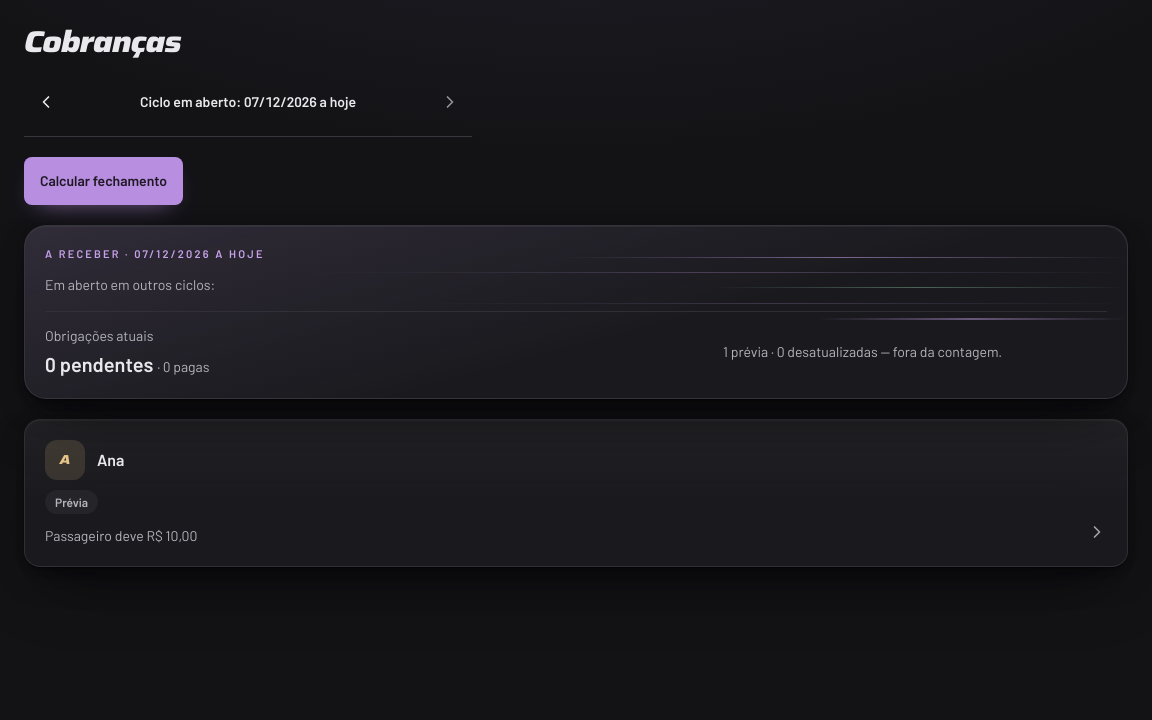
Test case: the calculate button › closes nothing by itself: opening only previews
Click the button "Calcular fechamento": (104, 181) [24,157,183,205]
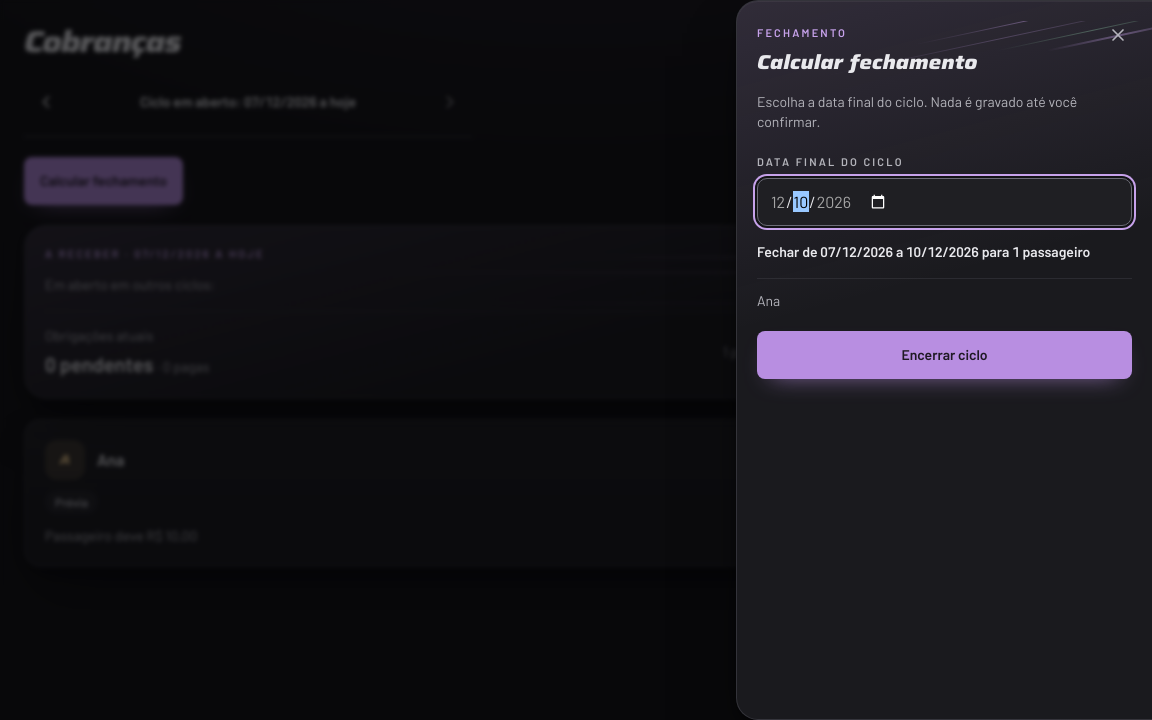
Expected: the text "Fechar de 07/12/2026 a 10/12/2026 para 1 passageiro" is shown, [757,242,1132,262]
